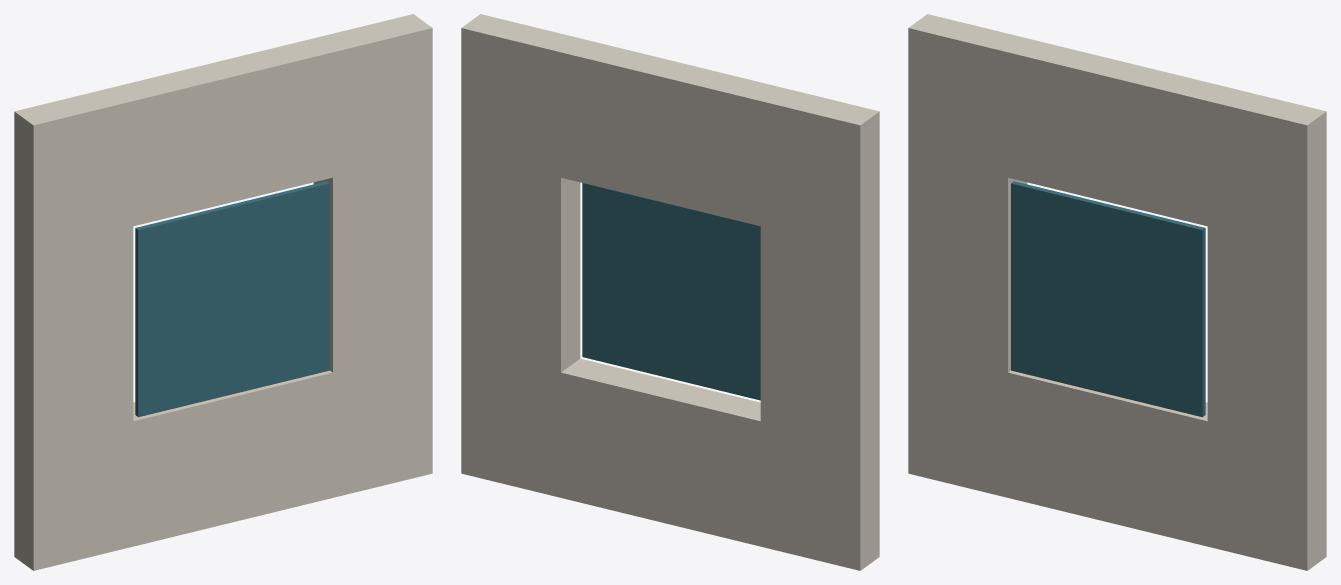
Rendered from bh_villa_wall_window_01_lod0.glb.
3 renders of one model, left to right at view 1: azimuth 30°, elevation 25°; view 2: azimuth 150°, elevation 25°; view 3: azimuth 330°, elevation 25°, orthographic.
Visible parts, largest first — view 1: bh_villa_wall_window_01_left, bh_villa_wall_window_01_right, bh_villa_wall_window_01_infill, bh_villa_wall_window_01_top, bh_villa_wall_window_01_sill; view 2: bh_villa_wall_window_01_left, bh_villa_wall_window_01_right, bh_villa_wall_window_01_infill, bh_villa_wall_window_01_top, bh_villa_wall_window_01_sill; view 3: bh_villa_wall_window_01_right, bh_villa_wall_window_01_left, bh_villa_wall_window_01_infill, bh_villa_wall_window_01_top, bh_villa_wall_window_01_sill.
Boxes of the visible parts, bbox=[...] form: bh_villa_wall_window_01_left: bbox=[14, 87, 133, 570]; bh_villa_wall_window_01_right: bbox=[313, 14, 432, 497]; bh_villa_wall_window_01_infill: bbox=[135, 181, 329, 417]; bh_villa_wall_window_01_top: bbox=[114, 38, 332, 226]; bh_villa_wall_window_01_sill: bbox=[133, 370, 332, 546]; bh_villa_wall_window_01_left: bbox=[760, 87, 879, 570]; bh_villa_wall_window_01_right: bbox=[461, 14, 580, 497]; bh_villa_wall_window_01_infill: bbox=[582, 183, 760, 400]; bh_villa_wall_window_01_top: bbox=[561, 38, 779, 226]; bh_villa_wall_window_01_sill: bbox=[561, 358, 760, 546]; bh_villa_wall_window_01_right: bbox=[1207, 87, 1326, 570]; bh_villa_wall_window_01_left: bbox=[908, 14, 1027, 497]; bh_villa_wall_window_01_infill: bbox=[1011, 181, 1205, 417]; bh_villa_wall_window_01_top: bbox=[1008, 38, 1226, 226]; bh_villa_wall_window_01_sill: bbox=[1008, 370, 1207, 546].
Bounding box in the file's own units: 3 × 3.2 × 0.265.
